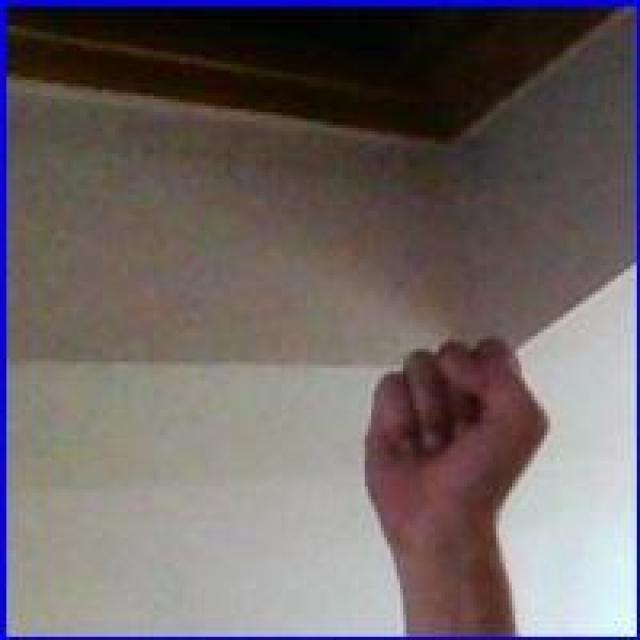S: (355, 333, 557, 566)
